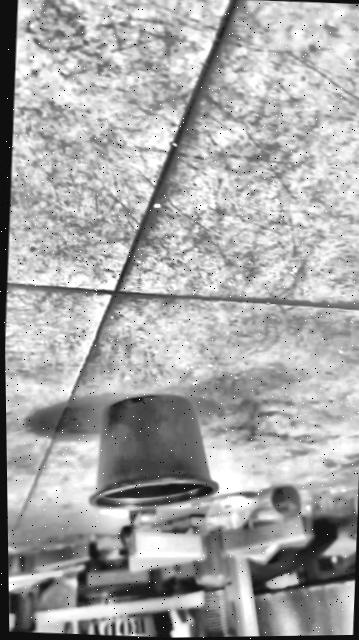pot: (87, 390, 223, 513)
